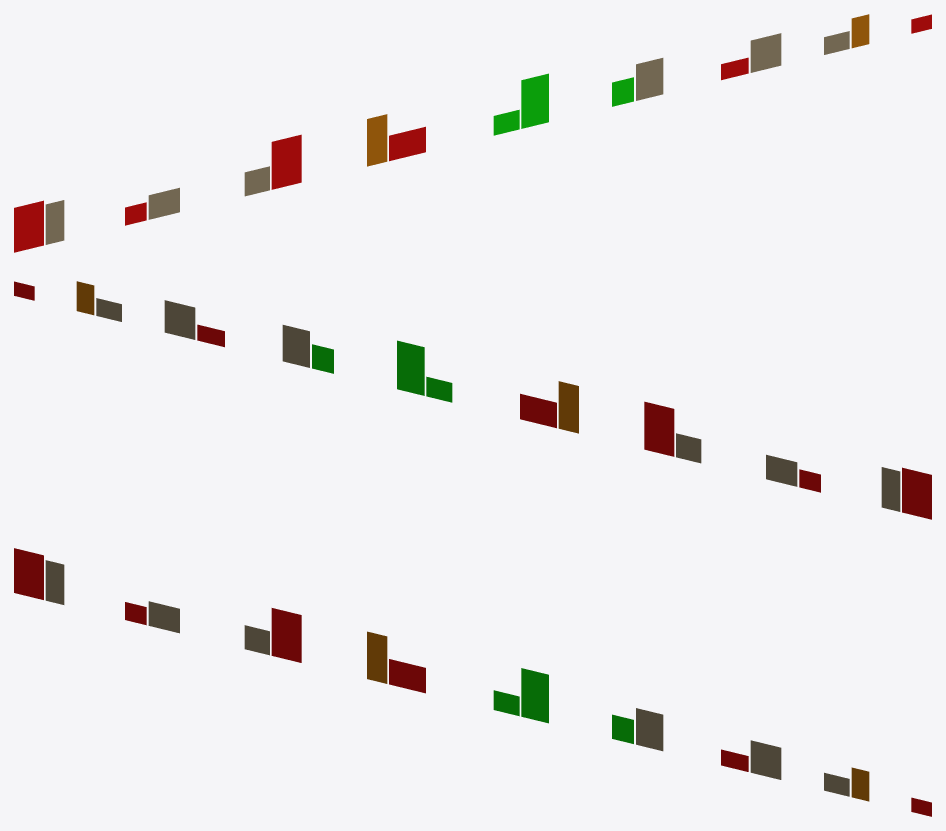
The model's file is far_city_low.glb.
3 views of the same model, one above another, from view 1: azimuth 30°, elevation 25°; view 2: azimuth 150°, elevation 25°; view 3: azimuth 330°, elevation 25° (orthographic).
Visible parts, largest first — view 1: far_city_low; view 2: far_city_low; view 3: far_city_low.
Part boxes in pixels (x1,y1,x2,y2): far_city_low: [14, 14, 931, 252]; far_city_low: [14, 281, 931, 519]; far_city_low: [14, 548, 931, 816].
Bounding box in the file's own units: 4.8 × 0.2435 × 0.
